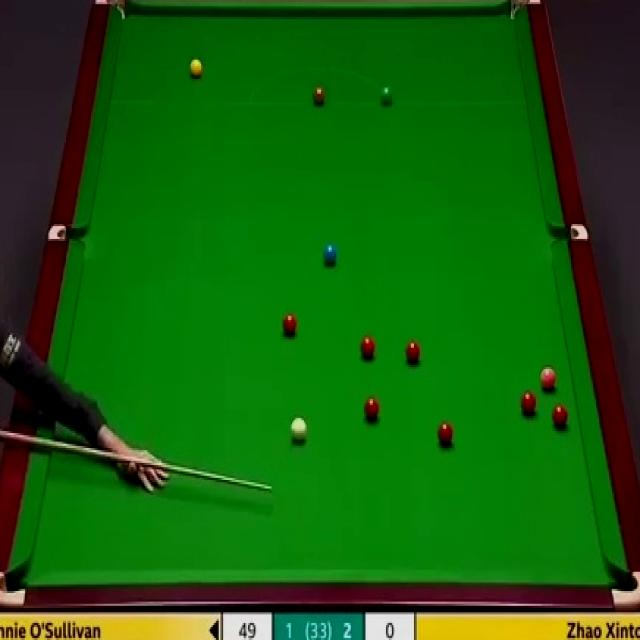blue-ball: (324, 244, 337, 268)
brown-ball: (312, 88, 326, 107)
green-ball: (380, 86, 393, 106)
pink-ball: (540, 365, 558, 393)
red-ball: (551, 402, 569, 430), (436, 422, 454, 448), (406, 338, 422, 365), (359, 336, 375, 361), (520, 392, 537, 415), (365, 398, 380, 423), (283, 312, 297, 335)
white-ball: (289, 415, 308, 444)
yellow-ball: (189, 59, 204, 82)
